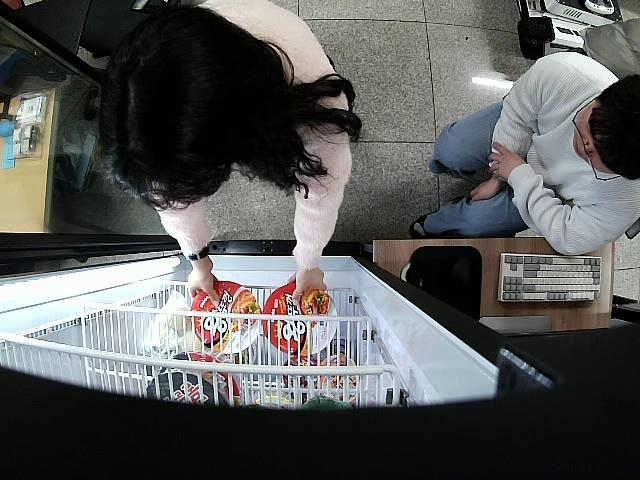00_hand: (287, 265, 329, 306), (187, 259, 221, 309)
10_wangTtukkeong: (263, 283, 339, 357), (189, 279, 258, 353)
